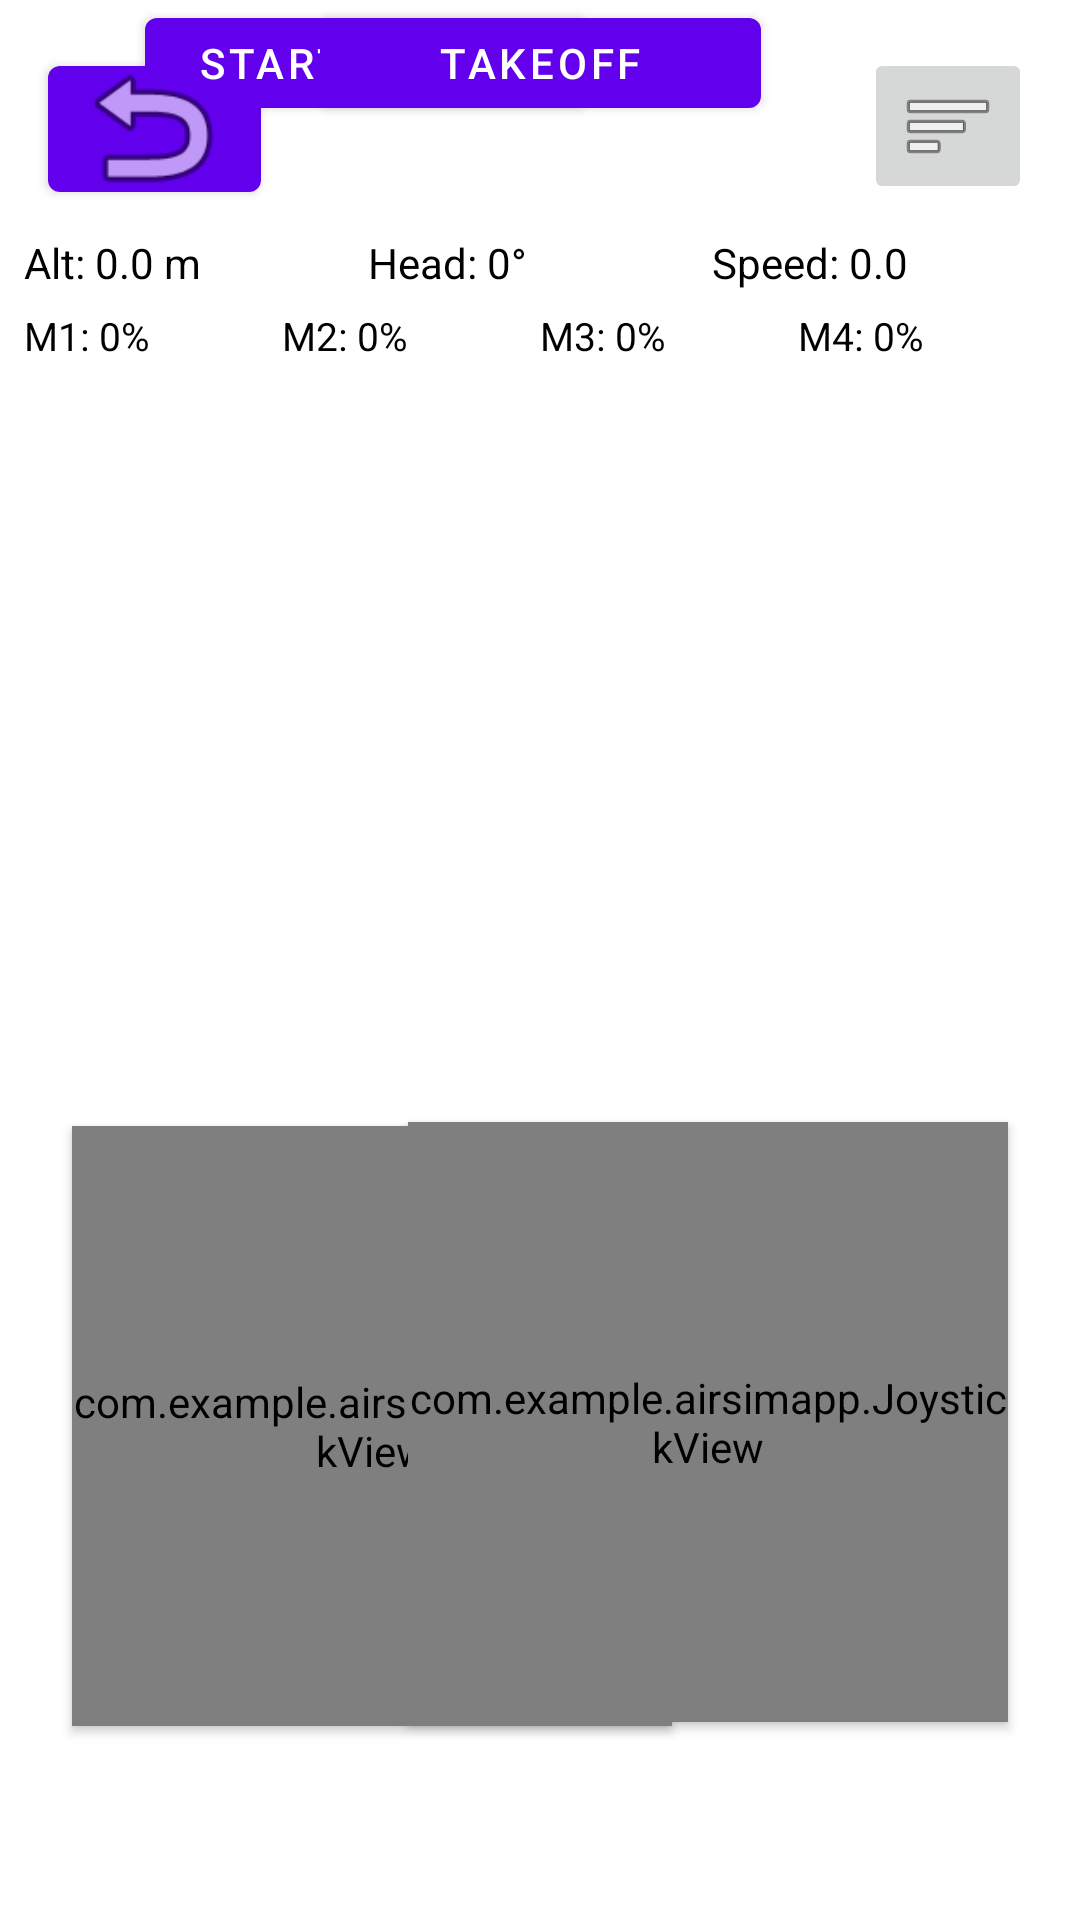

Named icons in this screenshot (1080 x 1920) and their bounding boxes, bbox(x1, y1, x2, y2):
sort by size: bbox(876, 66, 1020, 186)
